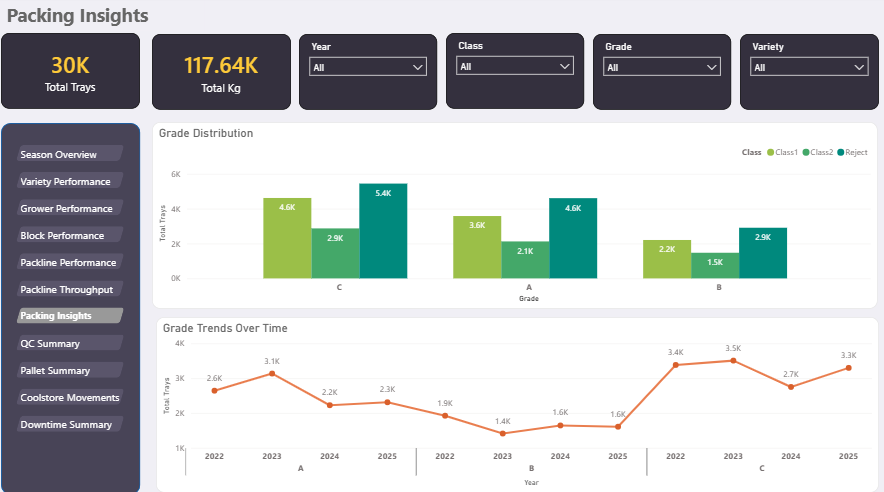

What the dashboard file says about the page in this screenshot:
{"tool":"powerbi","page":{"name":"Packing Insights","canvas":[1280,720],"ordinal":6},"visuals":[{"type":"shape","box":[6,182.4,200.5,535.2],"z":0},{"type":"cardVisual","fields":{"Data":["Sum(view_PackingGradeSummary.TotalTrays)"]},"box":[6.1,53.8,199.8,109.1],"z":1000},{"type":"cardVisual","fields":{"Data":["Sum(view_PackingGradeSummary.TotalPackedKg)"]},"box":[223.4,54.3,199.5,108.5],"z":2000},{"type":"clusteredColumnChart","title":"Grade Distribution","fields":{"Category":["view_PackingGradeSummary.Grade"],"Y":["Sum(view_PackingGradeSummary.TotalTrays)"],"Series":["view_PackingGradeSummary.Class"]},"box":[223.6,181.1,1045.4,269.2],"z":3000},{"type":"lineChart","title":"Grade Trends Over Time","fields":{"Category":["view_PackingGradeSummary.Grade","view_PackingGradeSummary.Date.Variation.Date Hierarchy.Year"],"Y":["Sum(view_PackingGradeSummary.TotalTrays)"]},"box":[228.3,462.9,1040.7,253.5],"z":4000},{"type":"slicer","fields":{"Values":["view_PackingGradeSummary.Class"]},"box":[646.6,53.8,199,109.1],"z":5000},{"type":"pageNavigator","box":[27.4,214.6,157,420.5],"z":6000},{"type":"slicer","fields":{"Values":["view_PackingGradeSummary.Date.Variation.Date Hierarchy.Year"]},"box":[435.3,54.3,199,109],"z":7000},{"type":"slicer","fields":{"Values":["view_PackingGradeSummary.Grade"]},"box":[858,54.3,199,109],"z":8000},{"type":"slicer","fields":{"Values":["view_PackingGradeSummary.VarietyCode"]},"box":[1069.3,54.3,199.5,108.5],"z":9000},{"type":"textbox","box":[8.8,2.9,290.2,47.1],"z":9001}]}

Visuals, with their boxes on the page's 1280x720 design canvas (x1, y1, x2, y2). These are canvas units, not pixel positions in the 884x492 screenshot, which may show the page scaled, cropped or inside an application window:
shape: (6, 182, 206, 718)
cardVisual - Sum(view_PackingGradeSummary.TotalTrays): (6, 54, 206, 163)
cardVisual - Sum(view_PackingGradeSummary.TotalPackedKg): (223, 54, 423, 163)
"Grade Distribution" clusteredColumnChart: (224, 181, 1269, 450)
"Grade Trends Over Time" lineChart: (228, 463, 1269, 716)
slicer - view_PackingGradeSummary.Class: (647, 54, 846, 163)
pageNavigator: (27, 215, 184, 635)
slicer - view_PackingGradeSummary.Date.Variation.Date Hierarchy.Year: (435, 54, 634, 163)
slicer - view_PackingGradeSummary.Grade: (858, 54, 1057, 163)
slicer - view_PackingGradeSummary.VarietyCode: (1069, 54, 1269, 163)
textbox: (9, 3, 299, 50)
